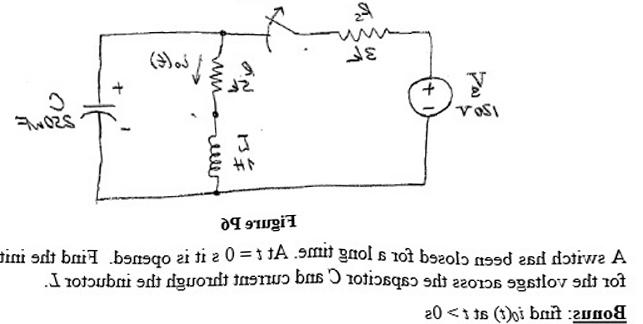Battery: (389, 66, 458, 128)
